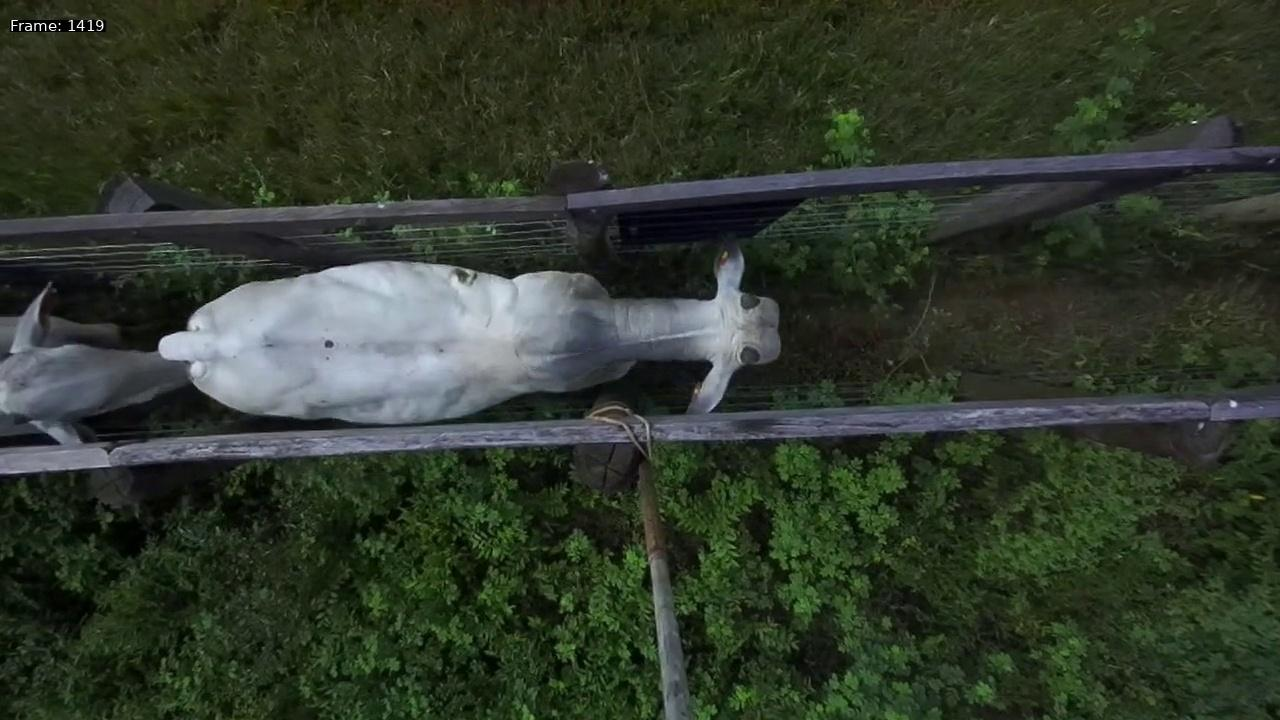cattle: (152, 210, 797, 437)
